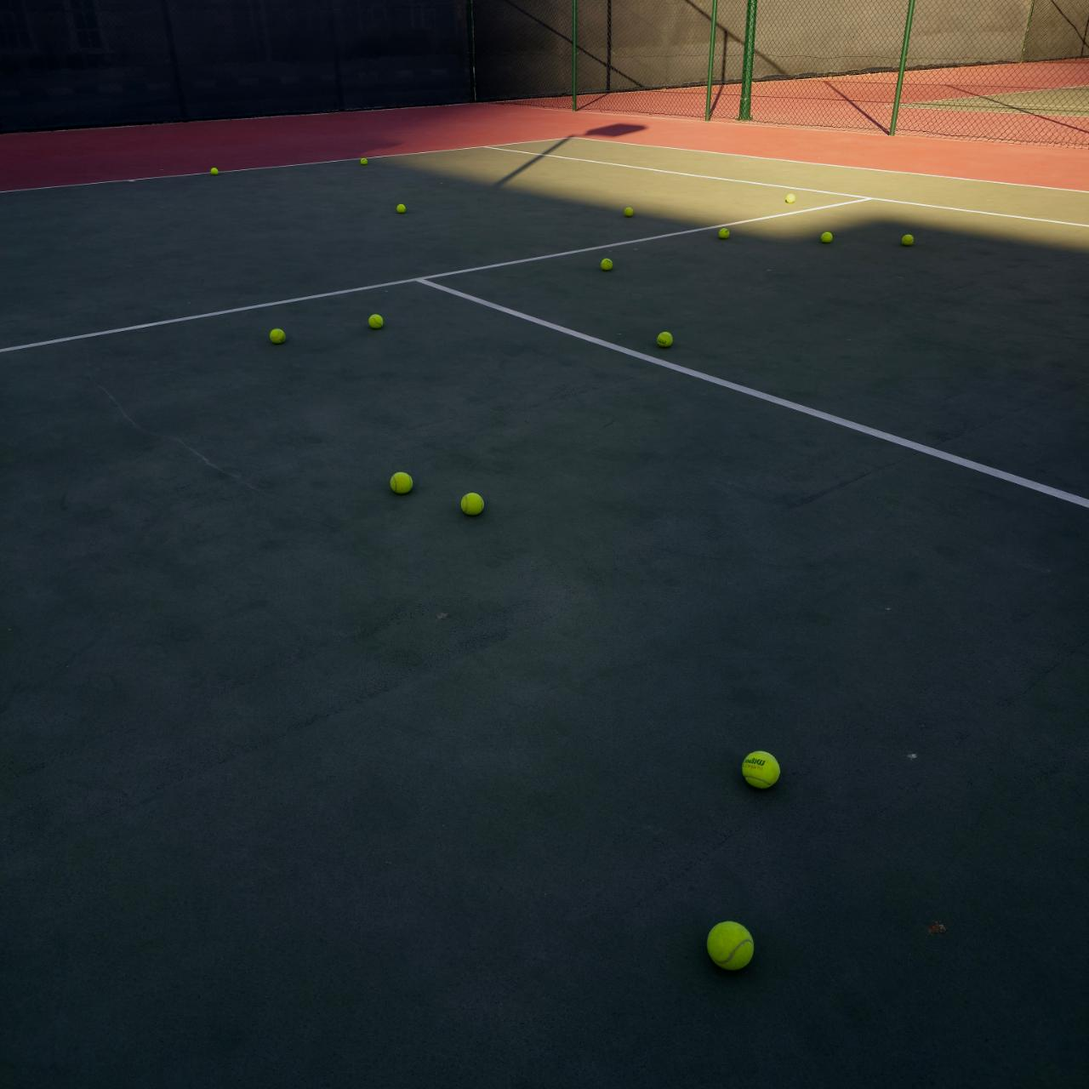tennis-ball: (706, 918, 756, 971), (741, 747, 782, 790), (460, 490, 487, 516), (390, 469, 415, 494), (270, 325, 288, 344), (368, 311, 385, 328), (657, 331, 673, 348), (901, 231, 915, 246), (601, 257, 614, 270), (821, 231, 834, 242), (718, 228, 730, 239), (624, 207, 634, 217), (786, 194, 795, 204), (396, 204, 406, 213), (211, 167, 219, 175), (360, 158, 367, 165)
